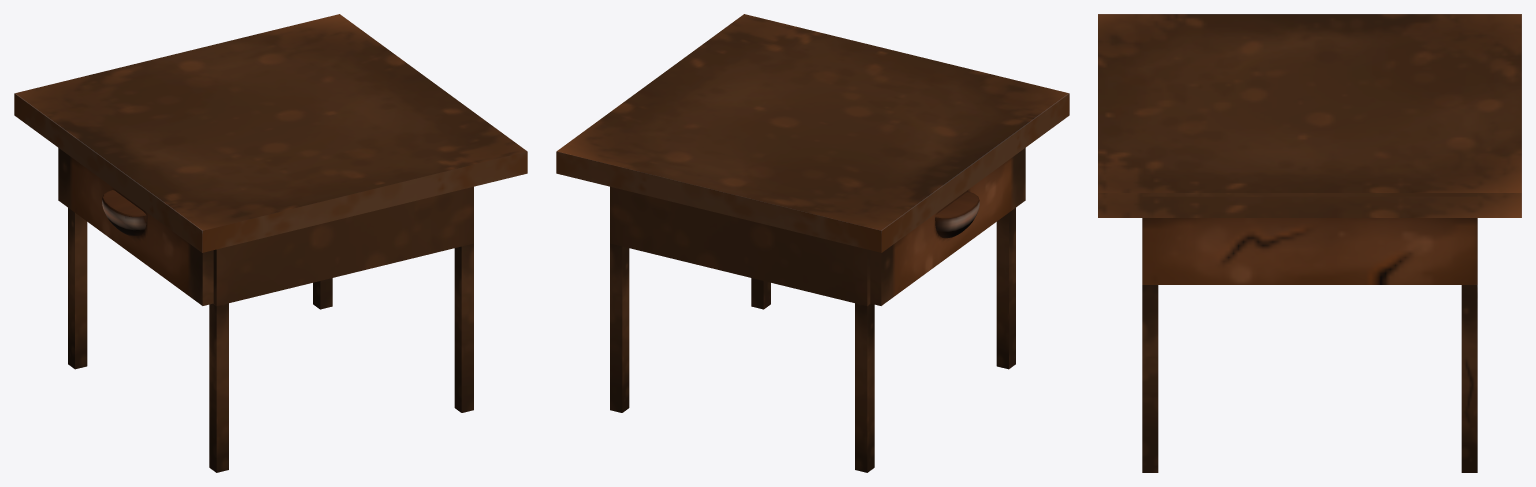
File: SmallTable.fbx
The picture shows the model from 3 angles, left to right: view 1: azimuth 30°, elevation 25°; view 2: azimuth 150°, elevation 25°; view 3: azimuth 270°, elevation 25°; orthographic projection. The views are drawn at different scales.
Visible parts, largest first — view 1: SmallTable; view 2: SmallTable; view 3: SmallTable.
Boxes of the visible parts, x1,y1,x2,y2 form: SmallTable: (14, 14, 527, 472); SmallTable: (556, 14, 1069, 472); SmallTable: (1098, 14, 1521, 472).
Size of the model in its own units: 129 by 99.97 by 129.
